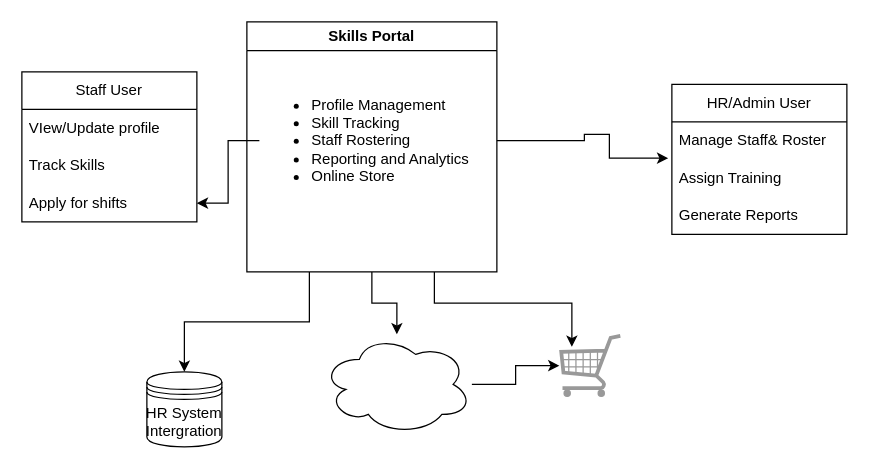
Image size: 869x469. Some labels were removed from this diagram. The centre of each missing label's shape, as x and y in pixels:
"E-commerce PLatform" goes at point (590, 365).
"Reporting Dashboard" goes at point (396, 383).
